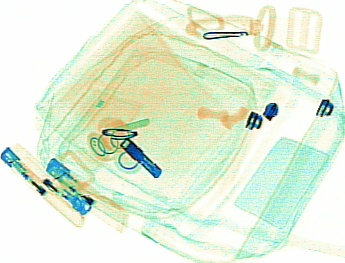lighter: (1, 146, 85, 227), (44, 156, 127, 232), (8, 143, 92, 214)
